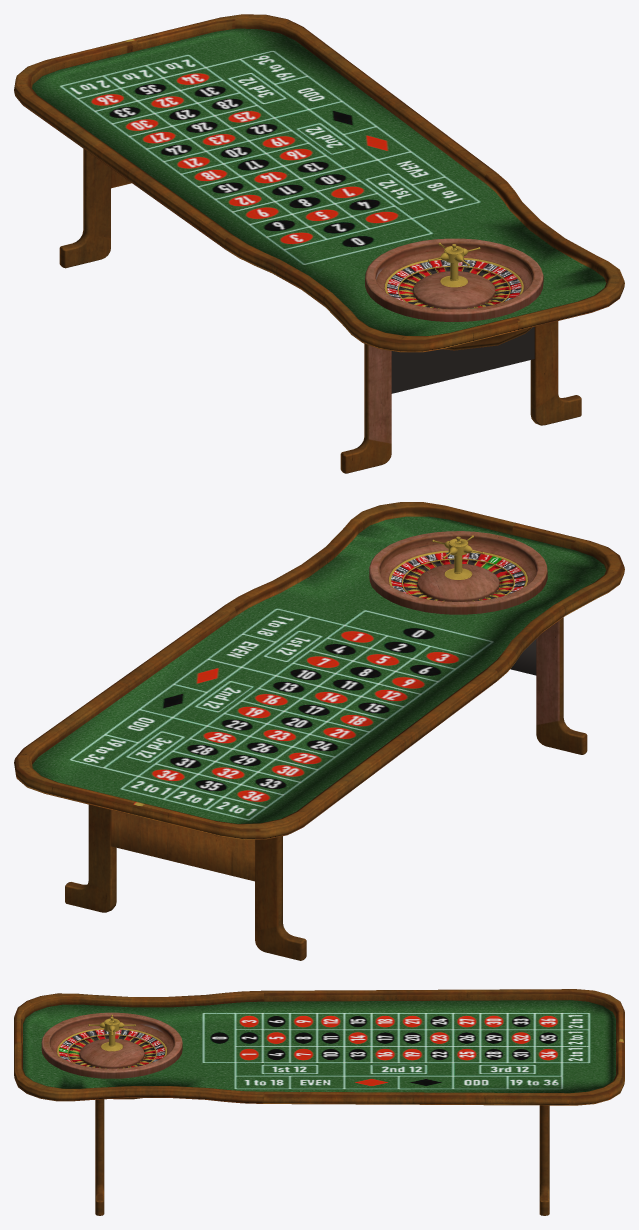
Rendered from SM_Table_Roulette.fbx.
The picture shows the model from 3 angles, top to bottom: view 1: azimuth 30°, elevation 25°; view 2: azimuth 150°, elevation 25°; view 3: azimuth 270°, elevation 25°; orthographic projection. The views are drawn at different scales.
Visible parts, largest first — view 1: polySurface60; view 2: polySurface60; view 3: polySurface60.
Part boxes in pixels (box(x1,y1,x2,y2)): polySurface60: box(14, 14, 624, 473); polySurface60: box(14, 502, 624, 960); polySurface60: box(14, 989, 624, 1215).
Size of the model in its own units: 154 by 101 by 365.
